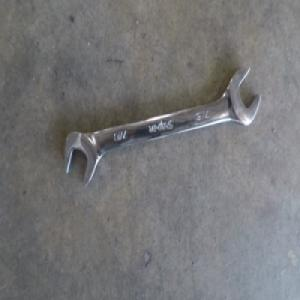Wrench: (65, 67, 262, 192)
